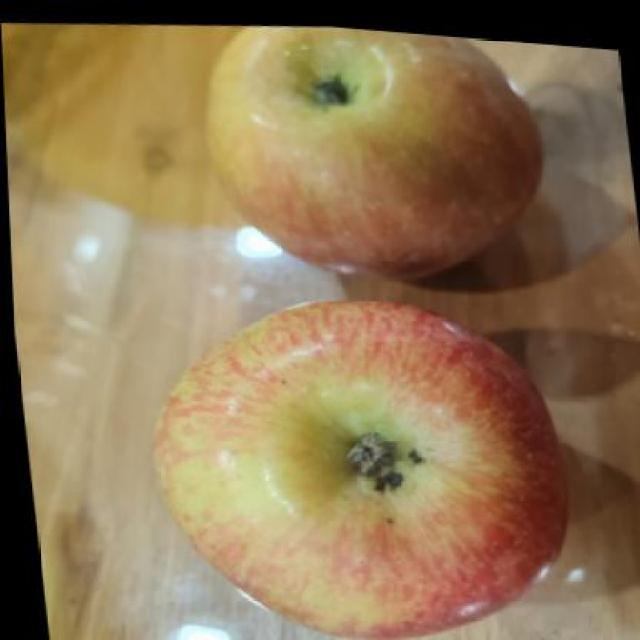Fresh Apple: (155, 290, 570, 640), (205, 12, 530, 291)
